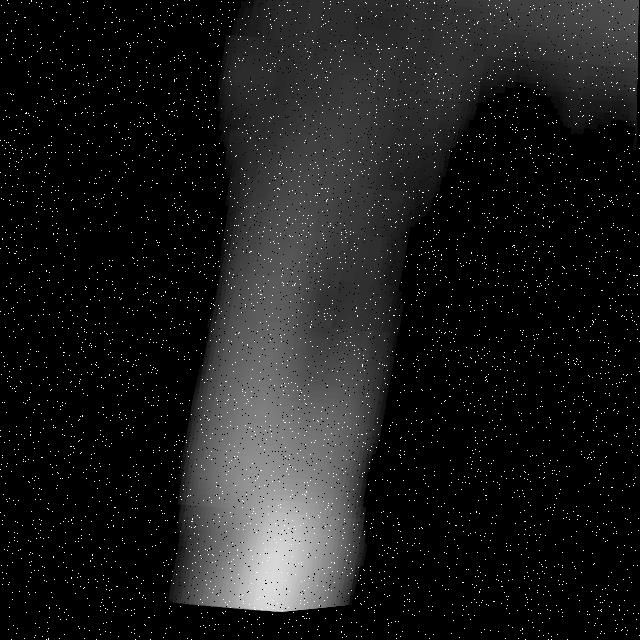person: (125, 104, 432, 631)
